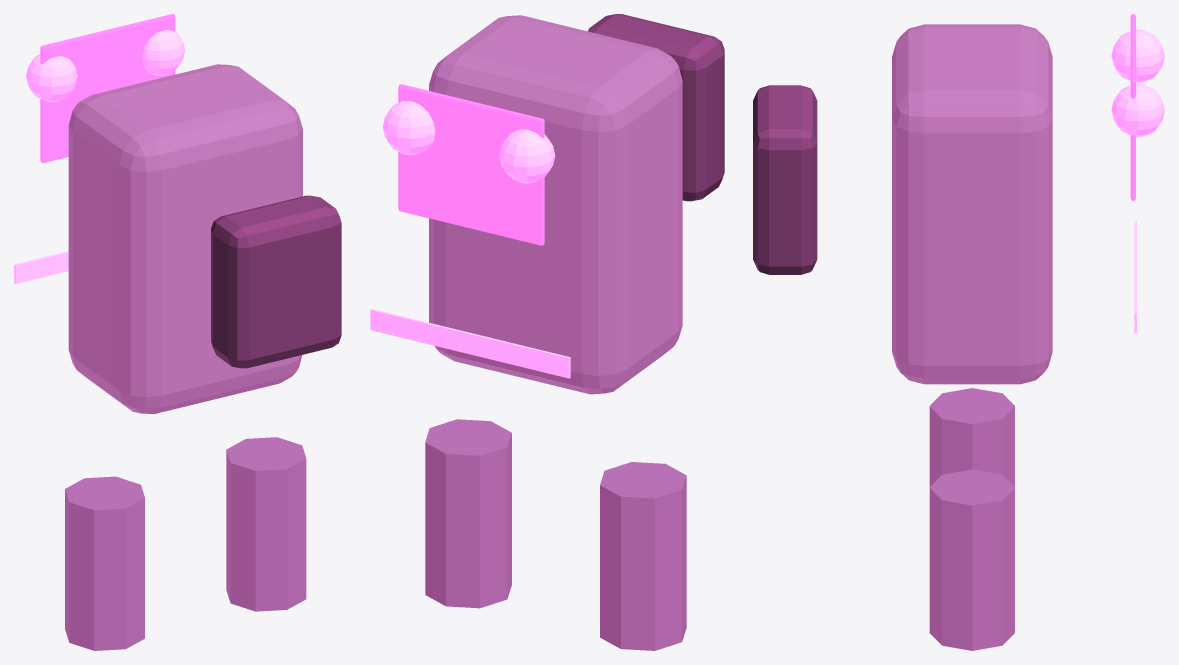
The model's file is stable_diff.glb.
3 views of the same model, side by side, from view 1: azimuth 30°, elevation 25°; view 2: azimuth 150°, elevation 25°; view 3: azimuth 270°, elevation 25° (orthographic). The views are drawn at different scales.
Parts seen in each view (by area): view 1: stable_diff; view 2: stable_diff; view 3: stable_diff.
Boxes of the visible parts, x1,y1,x2,y2 form: stable_diff: [14, 14, 341, 650]; stable_diff: [370, 14, 724, 650]; stable_diff: [753, 14, 1164, 650].
Size of the model in its own units: 0.52 by 1.12 by 0.77.
